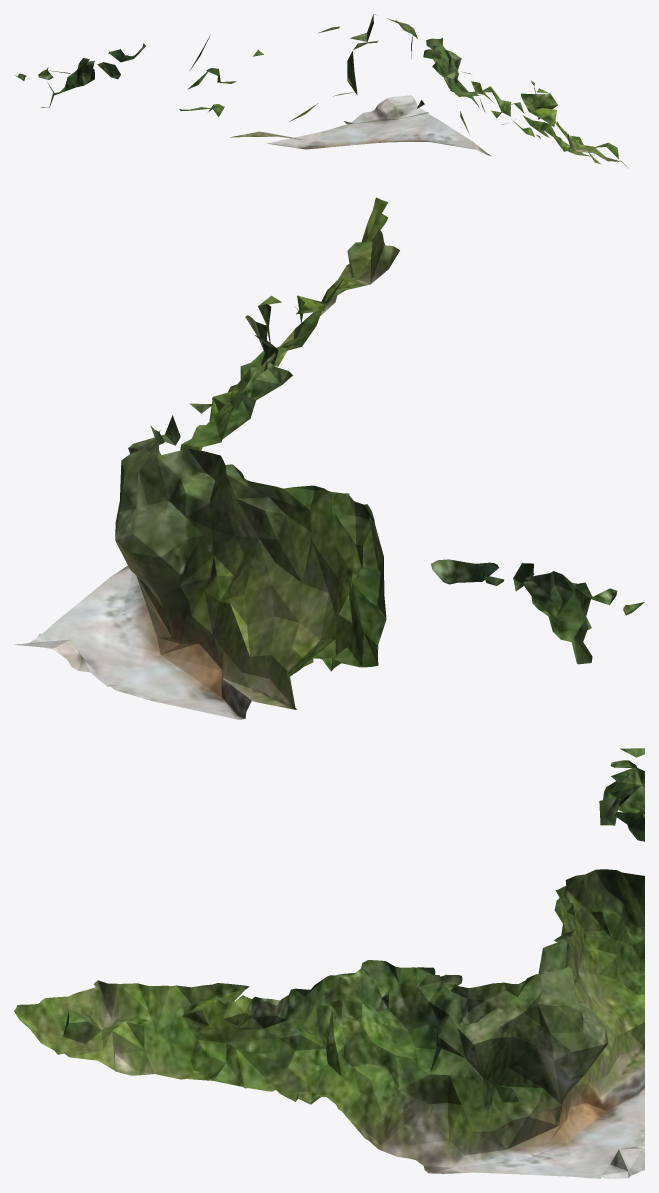
3 views of the same model, one above another, from view 1: azimuth 30°, elevation 25°; view 2: azimuth 150°, elevation 25°; view 3: azimuth 270°, elevation 25° (orthographic). The views are drawn at different scales.
Bounding box in the file's own units: 50.52 × 16.07 × 51.26.
1 material, 1 textured.
